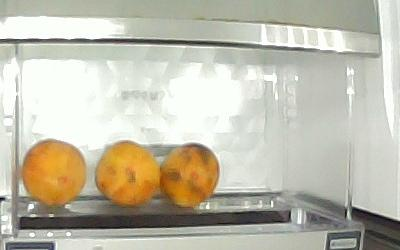peach: (96, 139, 161, 208), (22, 139, 86, 208), (162, 142, 220, 208)
